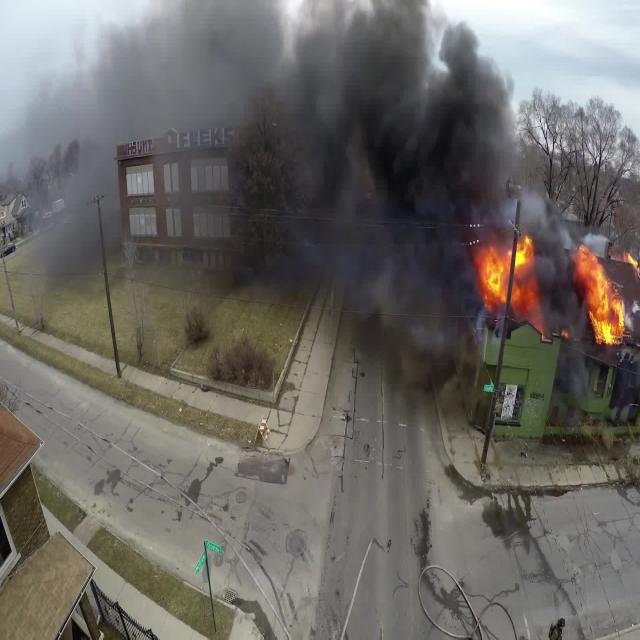Fire: (471, 221, 640, 360)
Smoke: (3, 4, 514, 346)
